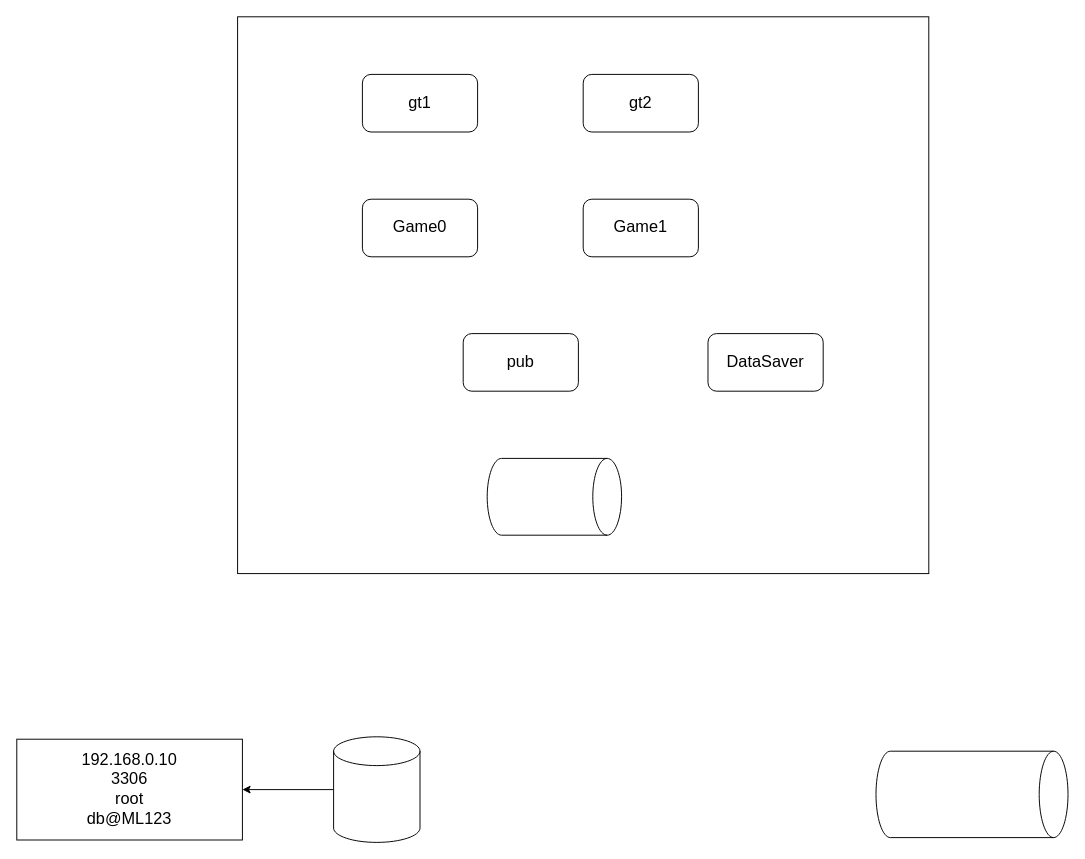
The diagram is 1085 pixels wide and 859 high, and some of its shapes have lost their labels. The shapes that lost their labels are listed below. From the top down, each one's centre as x and y in pixels, then its label:
point 554,496: 本地Redis
point 376,789: 云Mysql
point 971,794: 云Redis
